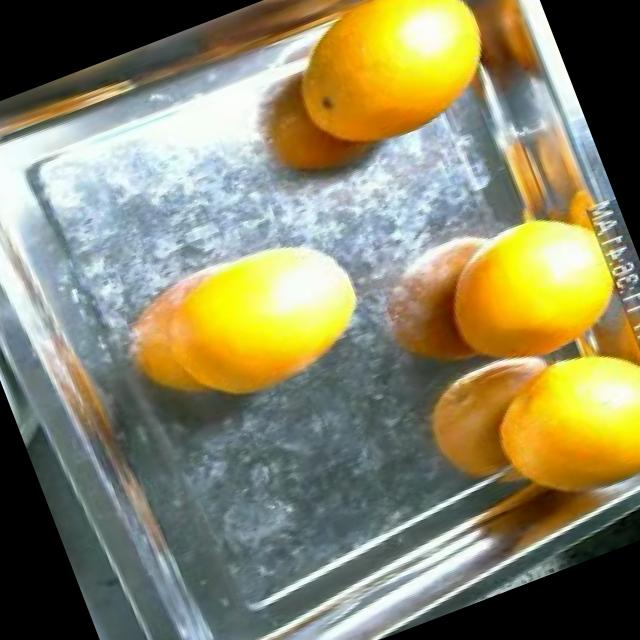Fruit: (136, 197, 405, 434)
